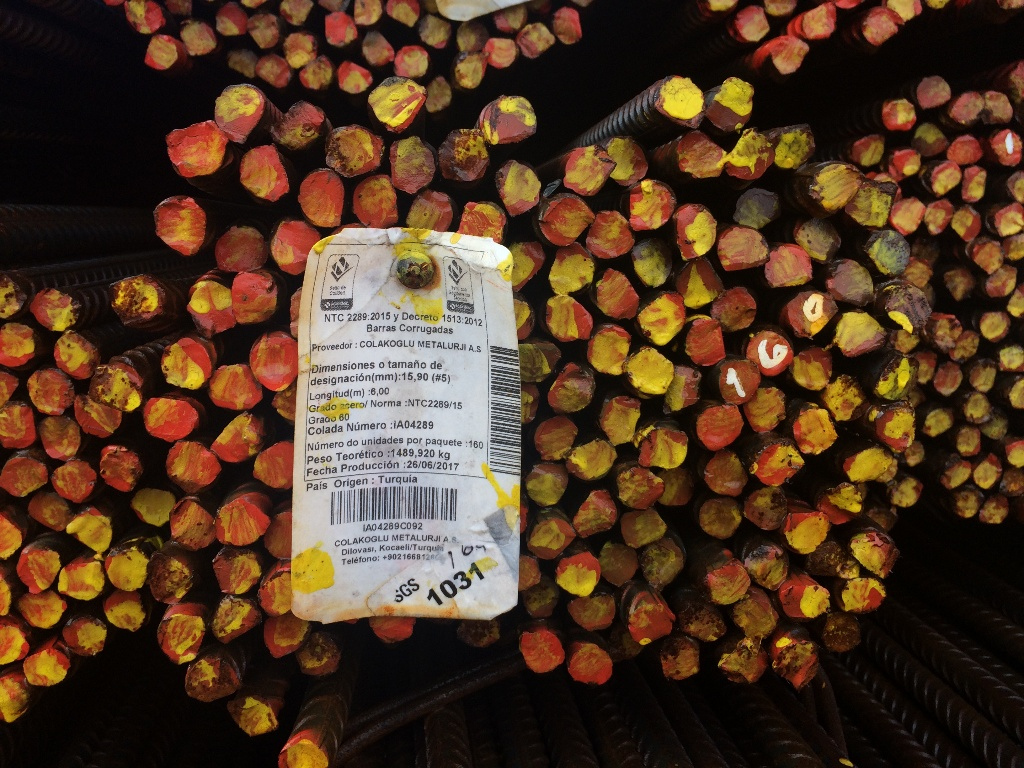dipstick: (644, 74, 709, 134), (163, 117, 229, 176), (471, 92, 538, 147), (233, 144, 296, 201), (211, 81, 269, 142), (366, 75, 430, 129), (225, 269, 283, 327), (243, 334, 300, 393), (379, 136, 440, 191), (91, 360, 149, 417), (154, 195, 207, 257), (152, 336, 213, 389), (321, 127, 387, 175), (671, 136, 730, 188), (210, 222, 270, 272), (99, 541, 159, 591), (299, 172, 347, 234), (66, 391, 128, 439), (180, 656, 246, 701), (155, 606, 208, 662), (850, 527, 904, 581), (562, 145, 617, 198), (626, 172, 679, 227), (164, 441, 226, 488), (492, 159, 544, 215), (212, 495, 270, 545), (561, 643, 622, 690), (832, 306, 885, 360), (624, 590, 677, 644), (50, 328, 104, 381), (167, 497, 220, 550), (272, 222, 323, 277), (144, 397, 203, 444), (547, 362, 599, 415), (93, 444, 145, 497), (789, 403, 841, 456), (32, 285, 87, 335), (634, 296, 691, 344), (146, 551, 194, 608), (751, 441, 809, 488), (783, 504, 834, 557), (603, 132, 654, 185), (810, 162, 865, 211), (588, 272, 645, 319), (728, 589, 781, 639), (695, 405, 751, 452), (717, 638, 773, 685), (744, 330, 802, 375), (208, 415, 260, 465), (785, 289, 838, 338), (540, 196, 594, 244), (456, 198, 510, 246), (541, 294, 597, 340), (777, 636, 822, 693), (518, 627, 569, 677), (208, 595, 258, 646), (709, 285, 760, 335), (818, 477, 870, 526), (19, 642, 76, 686), (188, 282, 237, 333), (574, 486, 620, 540), (777, 577, 833, 621), (586, 209, 636, 258), (354, 177, 400, 230), (520, 518, 578, 560), (254, 433, 299, 487), (294, 628, 344, 676), (109, 276, 162, 321), (612, 469, 670, 510), (732, 124, 775, 179), (685, 313, 728, 368), (24, 369, 74, 415), (229, 695, 279, 741), (629, 237, 674, 288), (602, 394, 645, 447), (887, 283, 935, 330), (837, 575, 892, 616), (17, 545, 63, 594), (625, 349, 675, 394), (848, 444, 902, 485), (210, 552, 264, 593), (789, 346, 836, 393), (714, 79, 760, 127), (2, 452, 51, 497), (212, 365, 263, 408), (690, 497, 743, 538), (615, 505, 669, 545), (764, 244, 813, 288), (827, 258, 876, 302), (716, 359, 766, 402), (60, 619, 113, 659), (637, 428, 690, 468), (871, 357, 915, 405), (846, 185, 896, 227), (39, 415, 86, 459), (55, 561, 107, 600), (706, 559, 751, 604), (53, 460, 97, 506), (67, 509, 114, 552), (797, 219, 845, 261), (554, 554, 603, 595), (720, 227, 770, 267), (138, 35, 183, 79), (29, 491, 73, 536), (529, 465, 573, 510), (820, 377, 864, 422), (266, 739, 333, 768), (734, 189, 784, 227), (871, 410, 915, 453), (1, 668, 33, 726), (776, 123, 819, 166), (601, 543, 644, 586), (870, 228, 912, 272), (258, 566, 297, 613), (645, 541, 685, 586), (1, 406, 41, 451), (660, 641, 702, 683), (567, 594, 616, 630), (21, 589, 70, 625), (408, 190, 452, 230), (132, 488, 178, 524), (297, 52, 338, 91), (771, 36, 812, 75), (911, 76, 957, 110), (550, 6, 590, 45), (887, 197, 928, 235), (1, 621, 33, 669), (336, 56, 375, 95), (864, 6, 904, 44), (2, 320, 33, 369), (820, 619, 862, 655), (877, 96, 920, 131), (947, 206, 984, 244), (355, 34, 398, 65), (520, 22, 557, 58), (736, 5, 773, 41), (801, 4, 841, 37), (924, 163, 966, 193), (245, 16, 283, 49), (950, 129, 983, 166), (213, 4, 251, 36), (421, 13, 455, 48), (949, 89, 985, 122), (394, 44, 430, 77), (994, 127, 1022, 169), (979, 495, 1013, 529), (891, 147, 926, 180), (180, 24, 217, 55), (971, 239, 1004, 273), (984, 85, 1012, 125), (934, 460, 971, 490), (454, 56, 491, 85), (482, 37, 515, 69), (889, 476, 921, 509), (935, 313, 962, 352), (255, 60, 293, 87), (971, 458, 1004, 489), (945, 267, 974, 302), (1, 515, 26, 555), (935, 362, 966, 394), (322, 15, 356, 44), (979, 311, 1011, 341), (854, 137, 887, 165), (987, 263, 1015, 296), (965, 396, 994, 427), (951, 425, 982, 454), (924, 409, 956, 437), (953, 331, 983, 360), (953, 488, 980, 520), (928, 199, 952, 234), (4, 279, 24, 315), (970, 365, 996, 392), (997, 441, 1024, 465), (1, 571, 14, 614), (1001, 349, 1024, 370)
